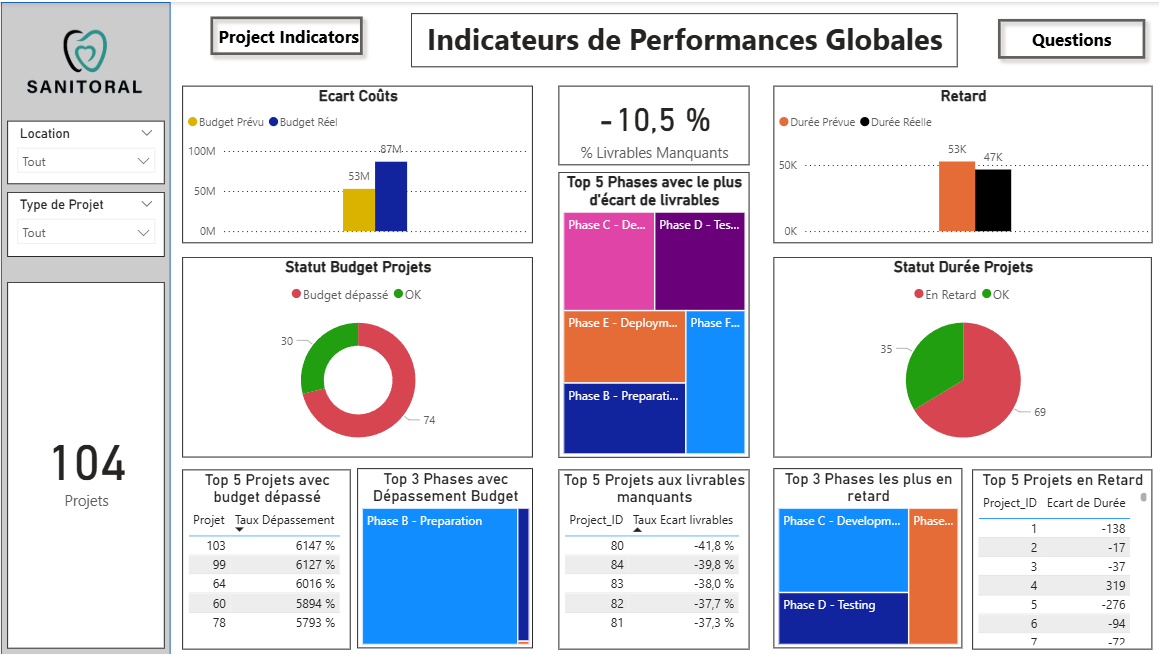

This screenshot's page, from the dashboard's own definition file:
{"tool":"powerbi","page":{"name":"Indicateurs Clés","canvas":[1280,720],"ordinal":1},"visuals":[{"type":"shape","box":[0,0,186.1,720],"z":3000},{"type":"slicer","fields":{"Values":["Country_Profiles.Region","Country_Profiles.Country"]},"box":[6.9,130.4,172.9,70],"z":4000},{"type":"image","box":[14,0,158.3,136.1],"z":6000},{"type":"slicer","fields":{"Values":["Project type.Project Type"]},"box":[6.9,208.6,172.9,71.4],"z":7000},{"type":"pieChart","title":"Statut Durée Projets","fields":{"Category":["PROJETS GLOBAL DUREE.Statut durée par phase"],"Y":["CountNonNull(PROJETS GLOBAL DUREE.ID_PROJET)"]},"box":[848.2,279.7,415.5,220],"z":12000},{"type":"tableEx","title":"Top 5 Projets avec budget dépassé","fields":{"Values":["PROJETS GLOBAL COUTS.ID_PROJET","PROJETS GLOBAL COUTS.Moyenne_Taux_Depassement"]},"box":[198.6,512.5,185.2,197.2],"z":14000},{"type":"treemap","title":"Top 5 Phases avec le plus d''écart de livrables","fields":{"Group":["Deliverables_status.Phase"],"Values":["Avg(Deliverables_status.Var_Deliverables)"]},"box":[611.8,186.5,209.3,314],"z":15000},{"type":"tableEx","title":"Top 5 Projets aux livrables manquants","fields":{"Values":["Deliverables_status.Project_ID","Avg(Deliverables_status.Var_Deliverables)"]},"box":[611.8,512.5,209.3,197.2],"z":16000},{"type":"actionButton","box":[221.4,6.7,185.2,60.4],"z":21000},{"type":"donutChart","title":"Statut Budget Projets","fields":{"Y":["Count(PROJETS GLOBAL COUTS.ID_PROJET)"],"Category":["PROJETS GLOBAL COUTS.Statut coûts par projet"]},"box":[198.6,280.4,385.1,220],"z":22000},{"type":"clusteredColumnChart","title":"Ecart Coûts","fields":{"Y":["Actual_Costs.Budget Prévu","Actual_Costs.Budget Réel"]},"box":[198.6,92.6,385.1,173.1],"z":23000},{"type":"clusteredColumnChart","title":"Retard","fields":{"Y":["Sum(Actual_Duration.Planned_Duration)","Sum(Actual_Duration.Actual_Duration)"]},"box":[848,92.6,415.9,173.1],"z":24000},{"type":"card","title":"Ecart Livrables","fields":{"Values":["Avg(Deliverables_status.Var_Deliverables)"]},"box":[611.8,92.6,209.3,87.2],"z":25000},{"type":"tableEx","title":"Top 5 Projets en Retard","fields":{"Values":["Actual_Duration.Project_ID","Actual_Duration.Ecart Planned actual"]},"box":[1066.7,512.5,197.2,197.2],"z":26000},{"type":"card","fields":{"Values":["Count(Deliverables_status.Project_ID)"]},"box":[6.9,307.4,172.9,402.1],"z":27000},{"type":"actionButton","box":[1085.5,9.4,179.8,61.7],"z":30000},{"type":"treemap","title":"Top 3 Phases avec Dépassement Budget","fields":{"Group":["Actual_Costs.Phase"],"Values":["Avg(Actual_Costs.Taux de dépassement coûts)"]},"box":[391,512,193.2,197.8],"z":33000},{"type":"treemap","title":"Top 3 Phases les plus en retard","fields":{"Group":["Actual_Duration.Phase"],"Values":["Avg(Actual_Duration.Taux de dépassement durée)"]},"box":[848.3,512,207.1,197.8],"z":34000},{"type":"textbox","box":[449.5,12.1,599.7,59],"z":38000}]}

Visuals, with their boxes in screenshot pixels (x1, y1, x2, y2), scaled from the page's 1280x720 canvas onto the 1159x654 screenshot:
shape: (left=0, top=0, right=169, bottom=653)
slicer - Country_Profiles.Region x Country_Profiles.Country: (left=6, top=118, right=163, bottom=182)
image: (left=13, top=0, right=156, bottom=124)
slicer - Project type.Project Type: (left=6, top=189, right=163, bottom=254)
"Statut Durée Projets" pieChart: (left=768, top=254, right=1144, bottom=454)
"Top 5 Projets avec budget dépassé" tableEx: (left=180, top=466, right=348, bottom=645)
"Top 5 Phases avec le plus d''écart de livrables" treemap: (left=554, top=169, right=743, bottom=455)
"Top 5 Projets aux livrables manquants" tableEx: (left=554, top=466, right=743, bottom=645)
actionButton: (left=200, top=6, right=368, bottom=61)
"Statut Budget Projets" donutChart: (left=180, top=255, right=529, bottom=455)
"Ecart Coûts" clusteredColumnChart: (left=180, top=84, right=529, bottom=241)
"Retard" clusteredColumnChart: (left=768, top=84, right=1144, bottom=241)
"Ecart Livrables" card: (left=554, top=84, right=743, bottom=163)
"Top 5 Projets en Retard" tableEx: (left=966, top=466, right=1144, bottom=645)
card - Count(Deliverables_status.Project_ID): (left=6, top=279, right=163, bottom=644)
actionButton: (left=983, top=9, right=1146, bottom=65)
"Top 3 Phases avec Dépassement Budget" treemap: (left=354, top=465, right=529, bottom=645)
"Top 3 Phases les plus en retard" treemap: (left=768, top=465, right=956, bottom=645)
textbox: (left=407, top=11, right=950, bottom=65)
